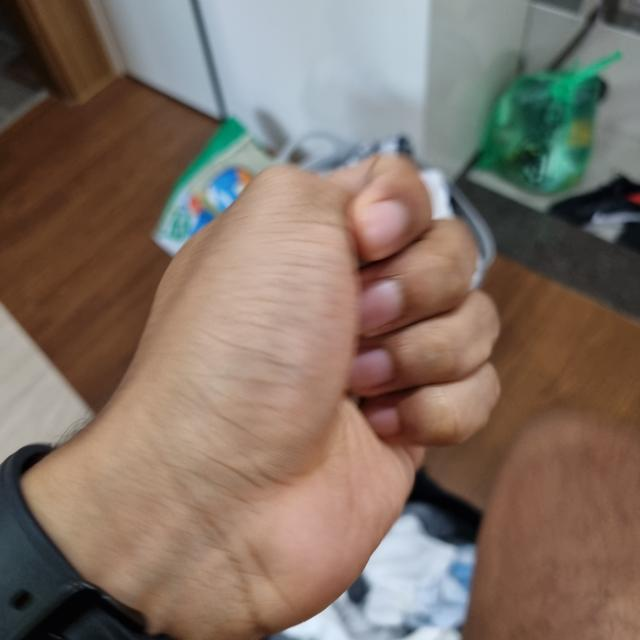Rock: (40, 149, 639, 638)
